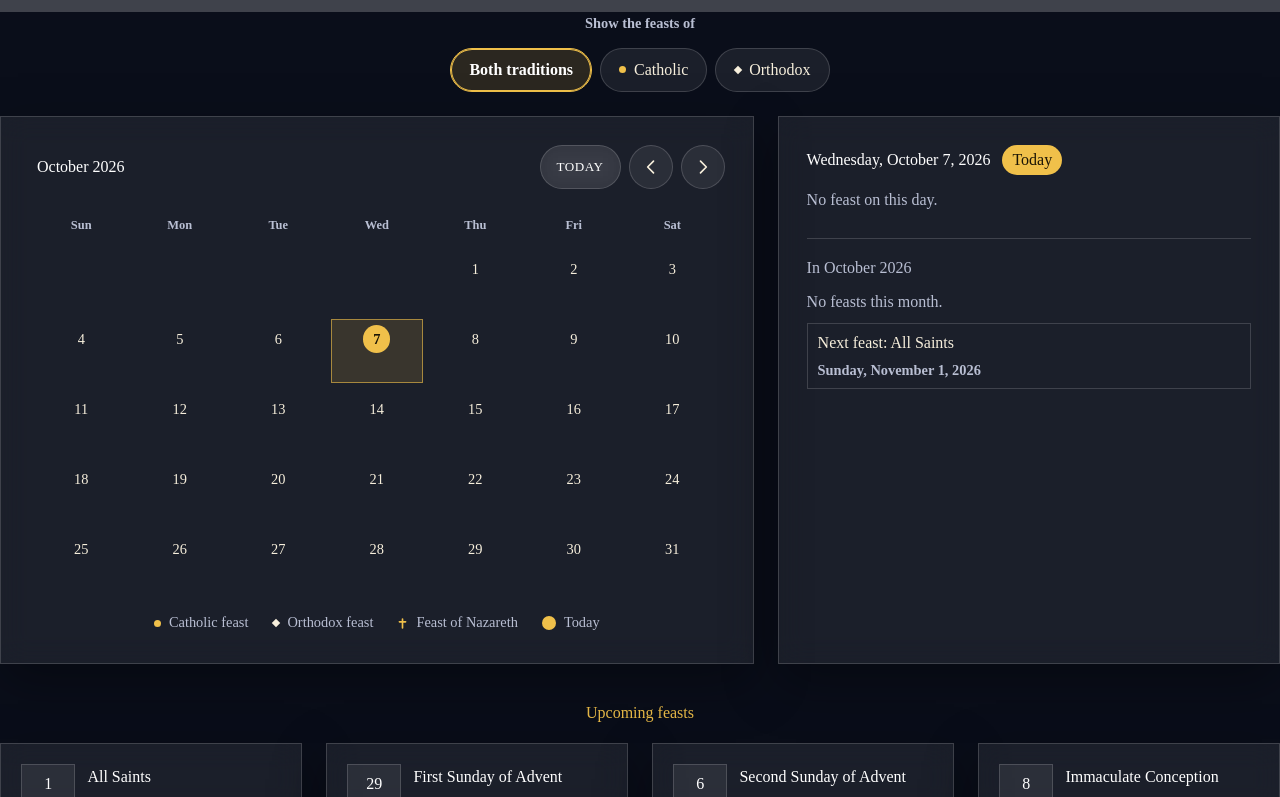
Test: <LiturgicalCalendar> › lists the month as buttons (the list alternative to the grid), and an empty month points to the next feast
Expected: the text "No feasts this month." is shown, x1=807 y1=293 x2=943 y2=310
Click the button "Next feast: All Saints Sunday, November 1, 2026". click: (886, 343)
box: x1=807 y1=323 x2=1251 y2=390
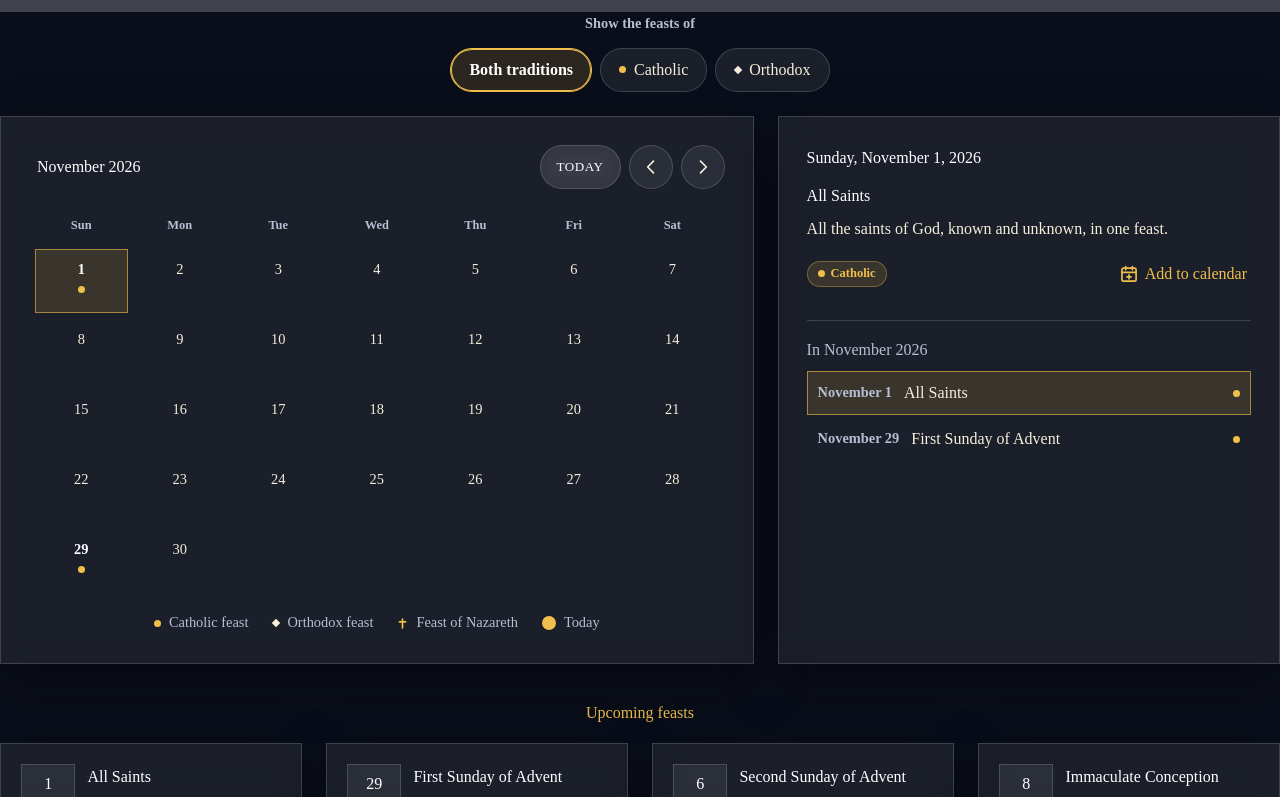
Click the button "November 29 First Sunday of Advent". click: (1029, 439)
box: x1=807 y1=417 x2=1251 y2=461
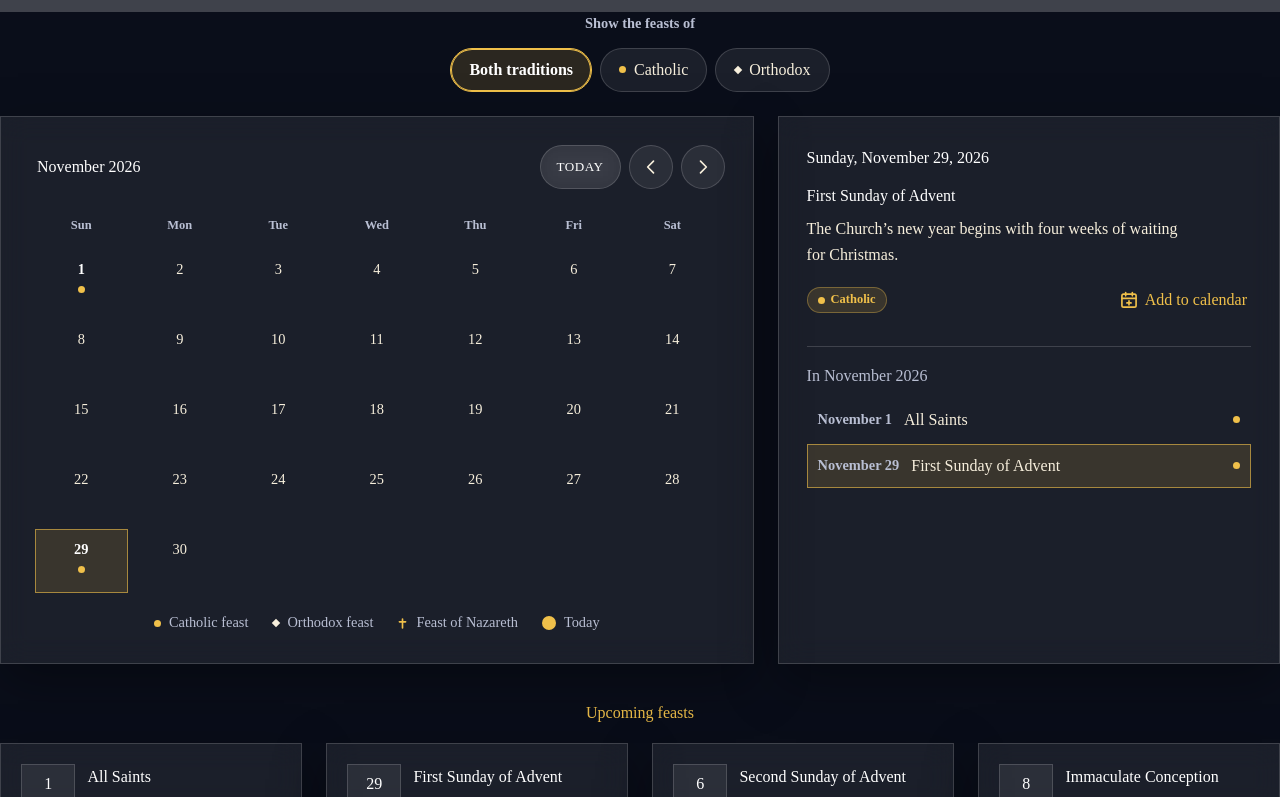
Expected: the text "The Church’s new year begins with four weeks of waiting for Christmas." is shown, x1=807 y1=220 x2=1178 y2=263
